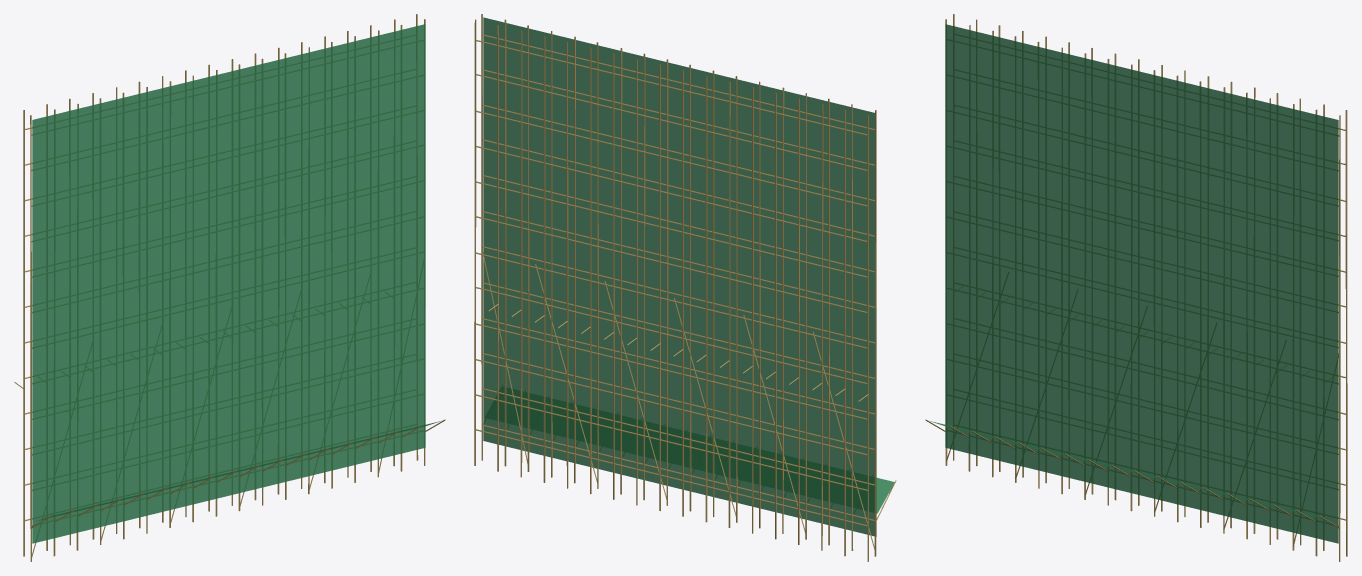
Rendered from hk-cantilever-walkup-scaffold.glb.
3 views of the same model, side by side, from view 1: azimuth 30°, elevation 25°; view 2: azimuth 150°, elevation 25°; view 3: azimuth 330°, elevation 25° (orthographic).
Visible parts, largest first — view 1: Scaffold_net, Scaffold_bamboo; view 2: Scaffold_net, Scaffold_bamboo; view 3: Scaffold_net, Scaffold_bamboo.
Part boxes in pixels (x1,y1,x2,y2): Scaffold_net: (32, 24, 440, 543); Scaffold_bamboo: (14, 14, 445, 561); Scaffold_net: (483, 17, 894, 536); Scaffold_bamboo: (474, 14, 896, 561); Scaffold_net: (930, 24, 1338, 543); Scaffold_bamboo: (925, 14, 1347, 561).
Size of the model in its own units: 22.11 by 23.85 by 3.62.
